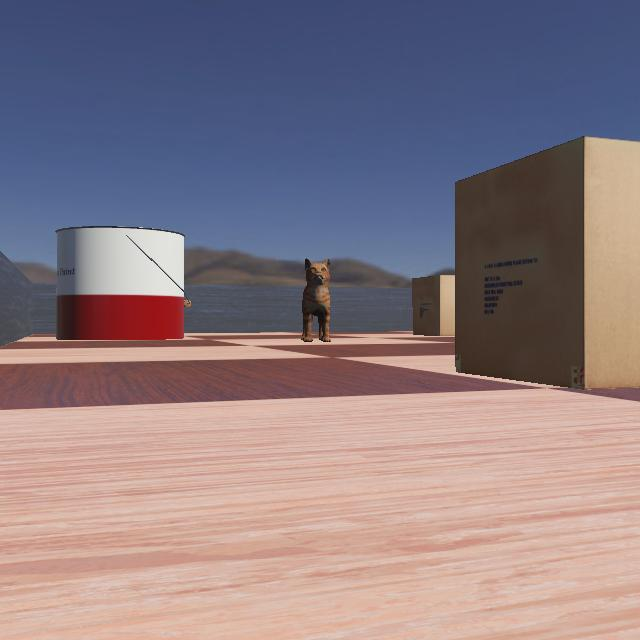cardboard-box: (443, 135, 639, 389), (443, 135, 639, 389), (409, 274, 497, 336)
cat: (298, 255, 332, 342), (298, 255, 332, 342), (298, 255, 332, 342), (298, 255, 332, 342)
paint-bucket: (34, 226, 204, 340), (34, 226, 204, 340), (34, 226, 204, 340)
